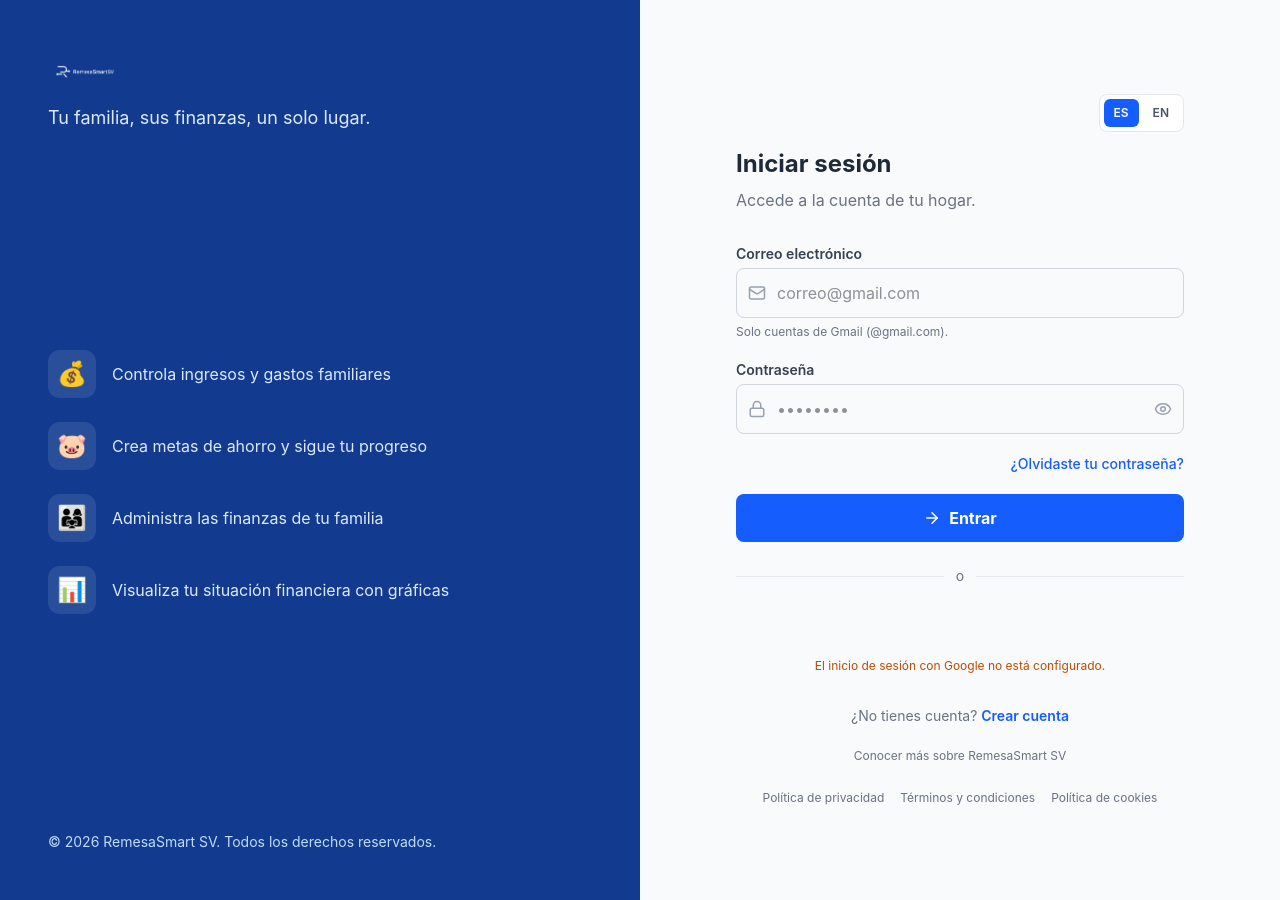
Test: Login — olvidé mi contraseña › muestra un Notification de error cuando la solicitud falla, sin alert nativo
Click the button "¿Olvidaste tu contraseña?": (1097, 464) [1010,454,1184,474]
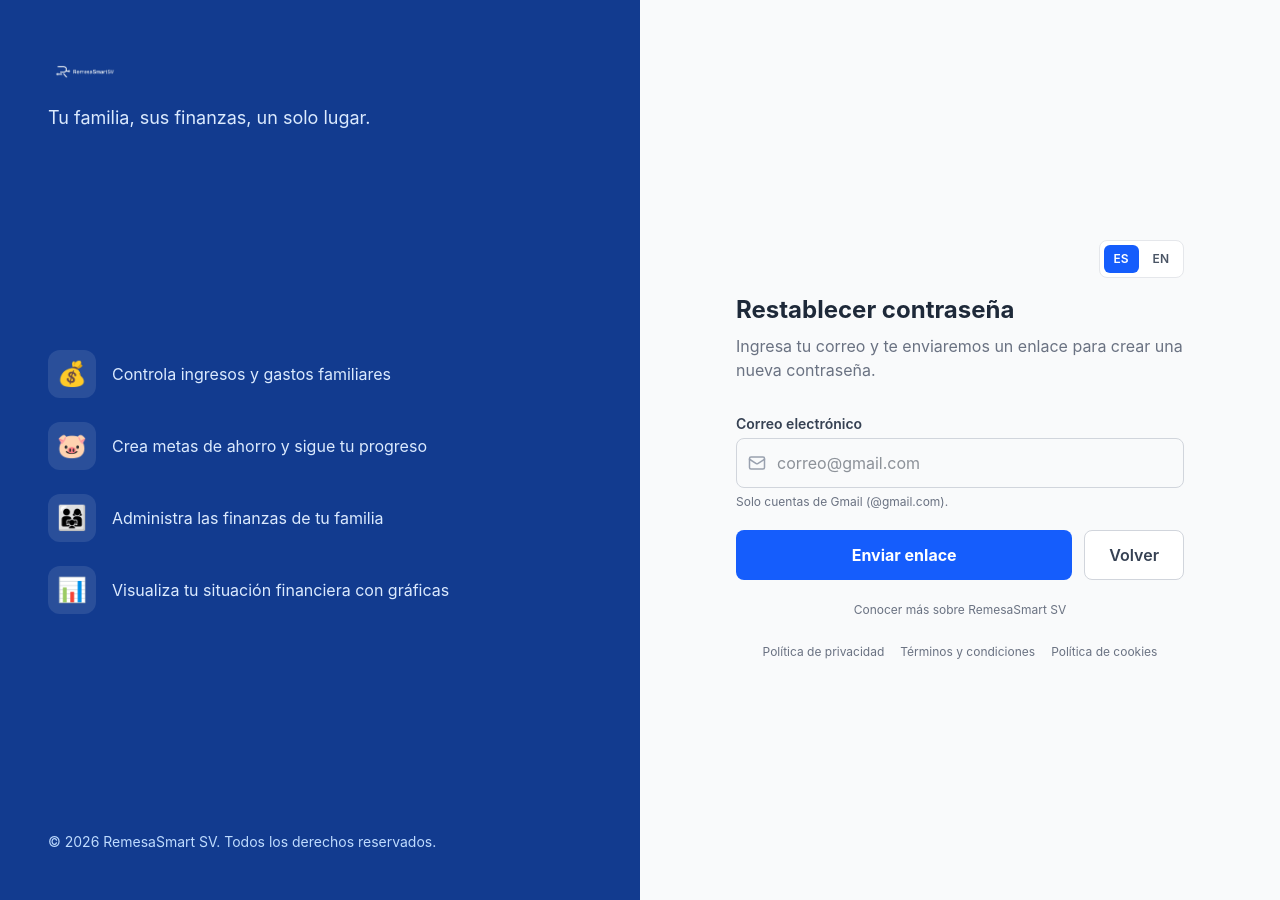
In the field labelled "Correo electrónico": (960, 463) [736,438,1184,488], type "ana@gmail.com"
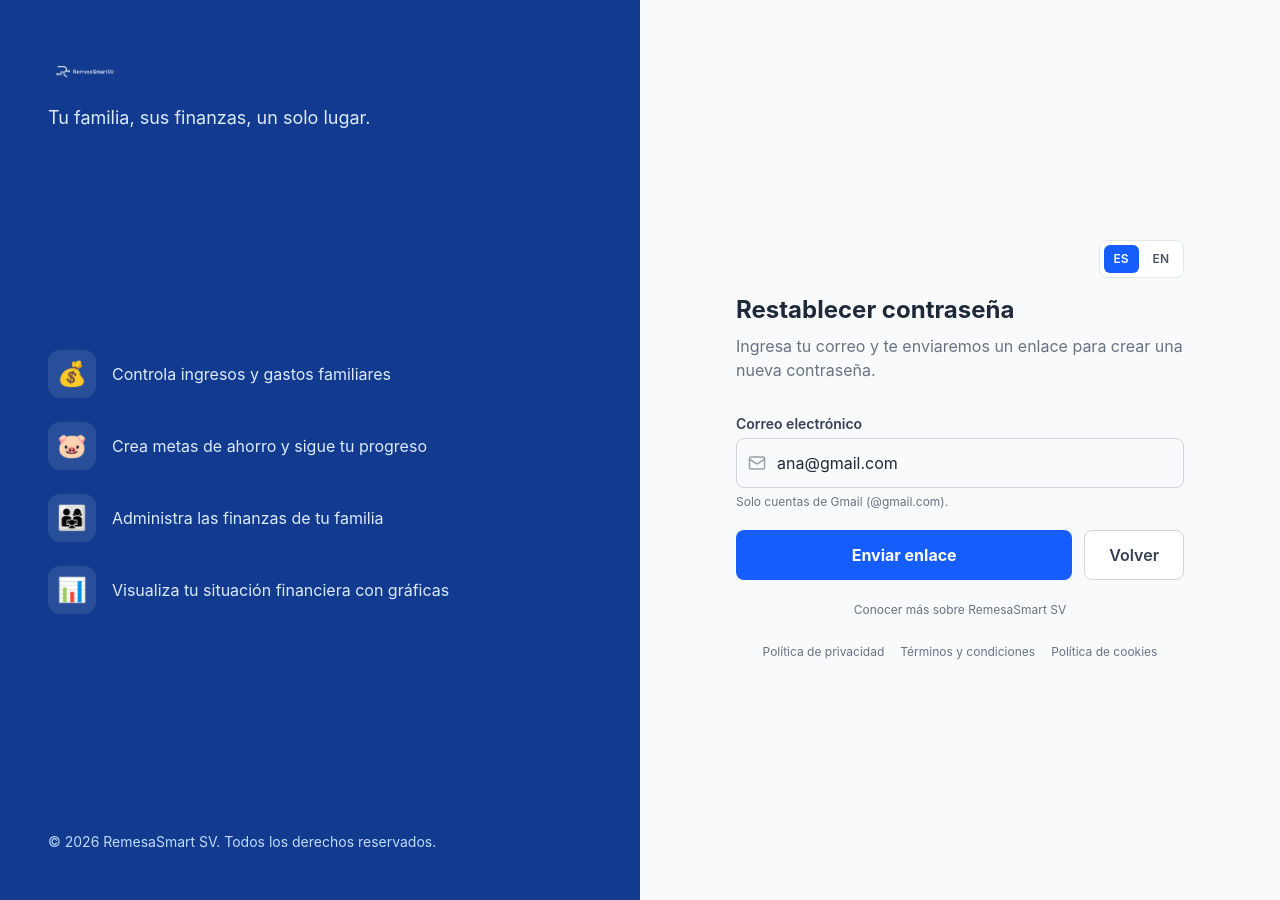
Submit the form labelled "Correo electrónico", box [736,414,1184,580]
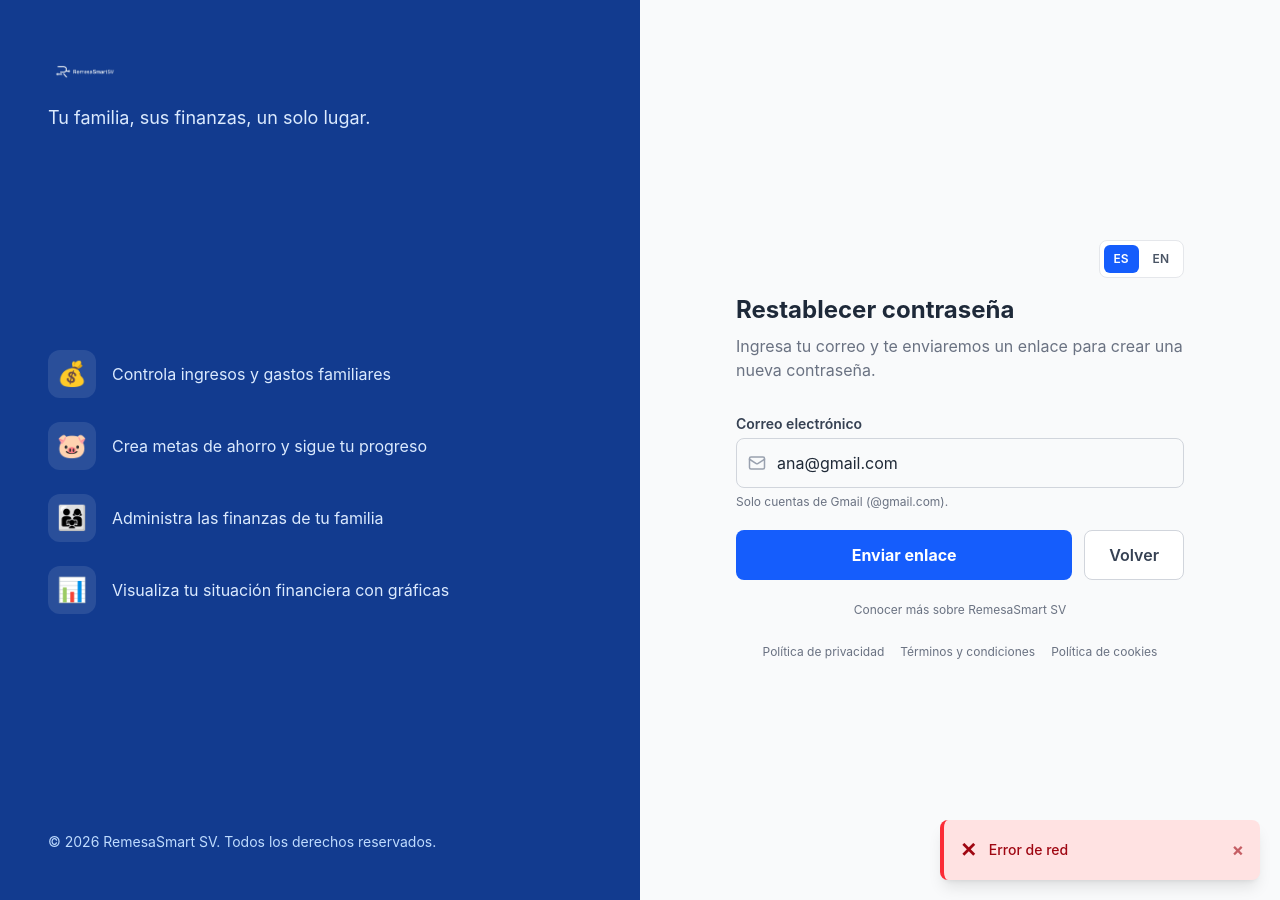
Now the message shows "Error de red", box [989,841,1068,858]
